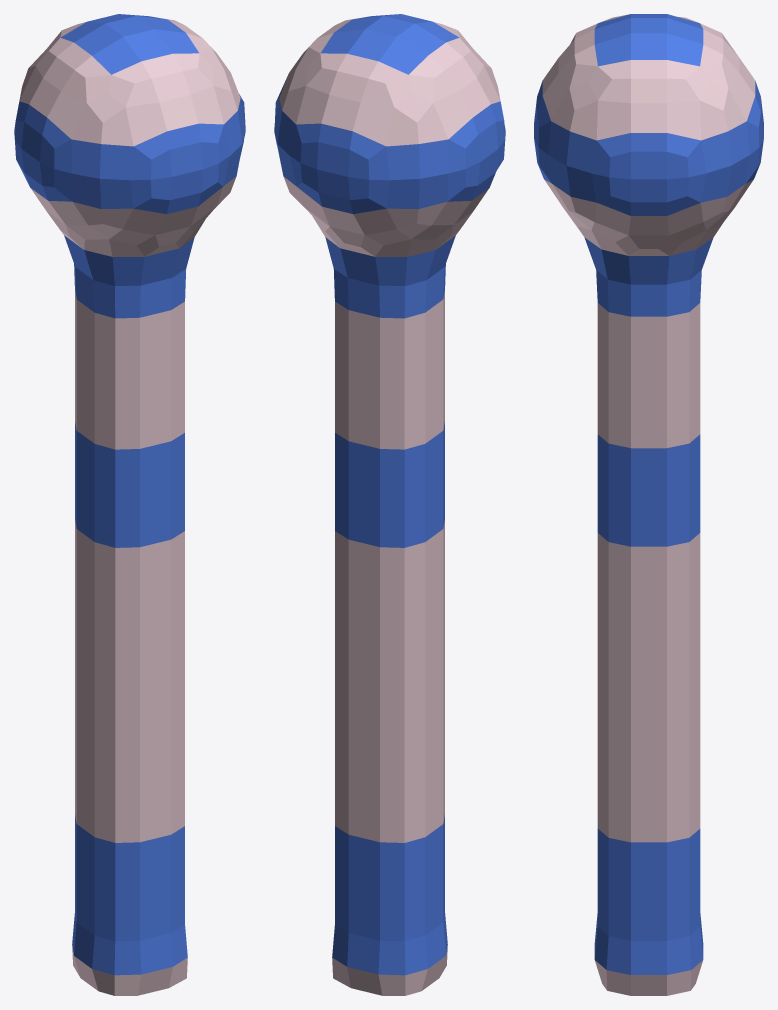
Rendered from Shaker.fbx.
3 renders of one model, left to right at view 1: azimuth 30°, elevation 25°; view 2: azimuth 150°, elevation 25°; view 3: azimuth 270°, elevation 25°, orthographic.
Visible parts, largest first — view 1: Cylinder; view 2: Cylinder; view 3: Cylinder.
Boxes of the visible parts, x1,y1,x2,y2 form: Cylinder: (14, 14, 245, 995); Cylinder: (274, 14, 505, 995); Cylinder: (534, 14, 763, 995).
Bounding box in the file's own units: 192 × 882 × 192.
